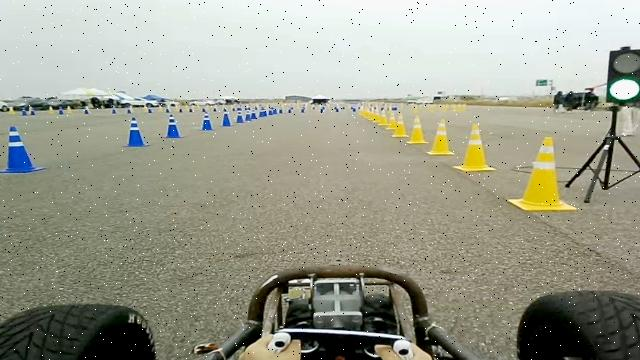blue cone: (0, 126, 47, 174), (121, 117, 150, 147), (162, 114, 184, 138), (200, 110, 212, 130), (220, 109, 232, 126), (235, 106, 244, 123), (250, 104, 258, 123), (244, 105, 252, 123)
yellow cone: (507, 136, 577, 212), (453, 123, 496, 171), (426, 118, 454, 155), (405, 115, 428, 144), (392, 110, 411, 138), (387, 108, 400, 132)
